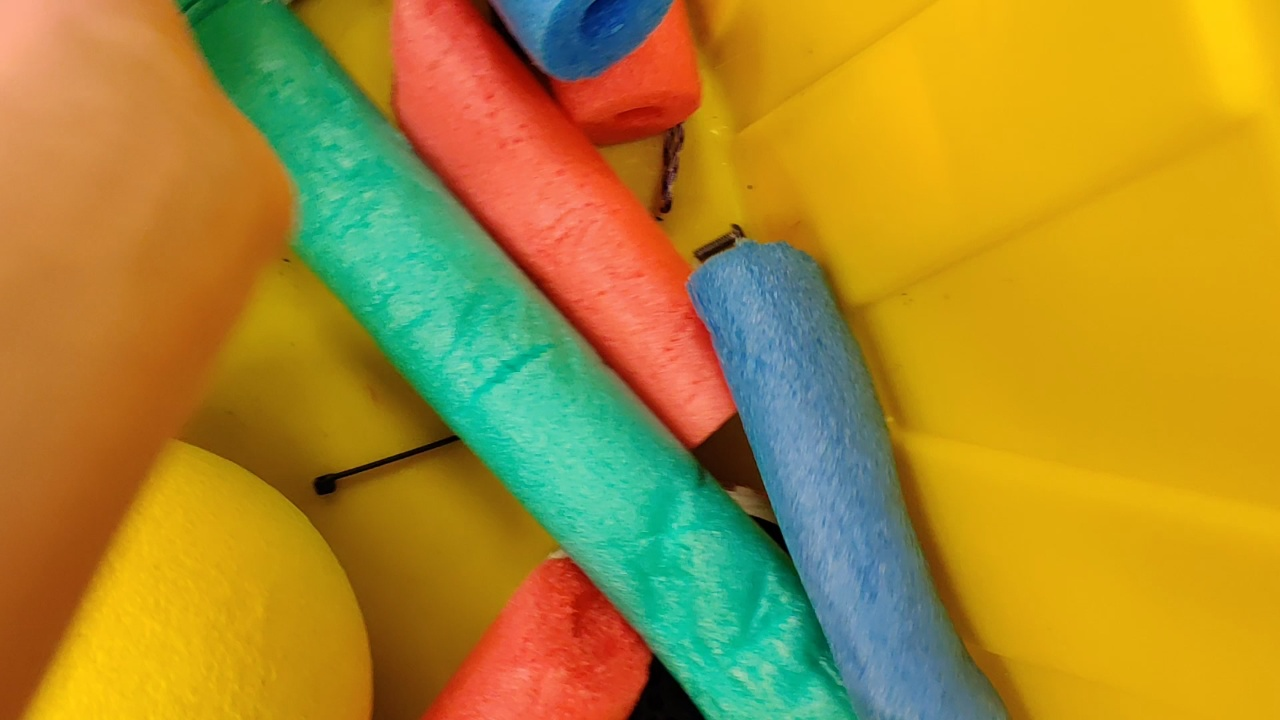Ball: (22, 434, 373, 719)
